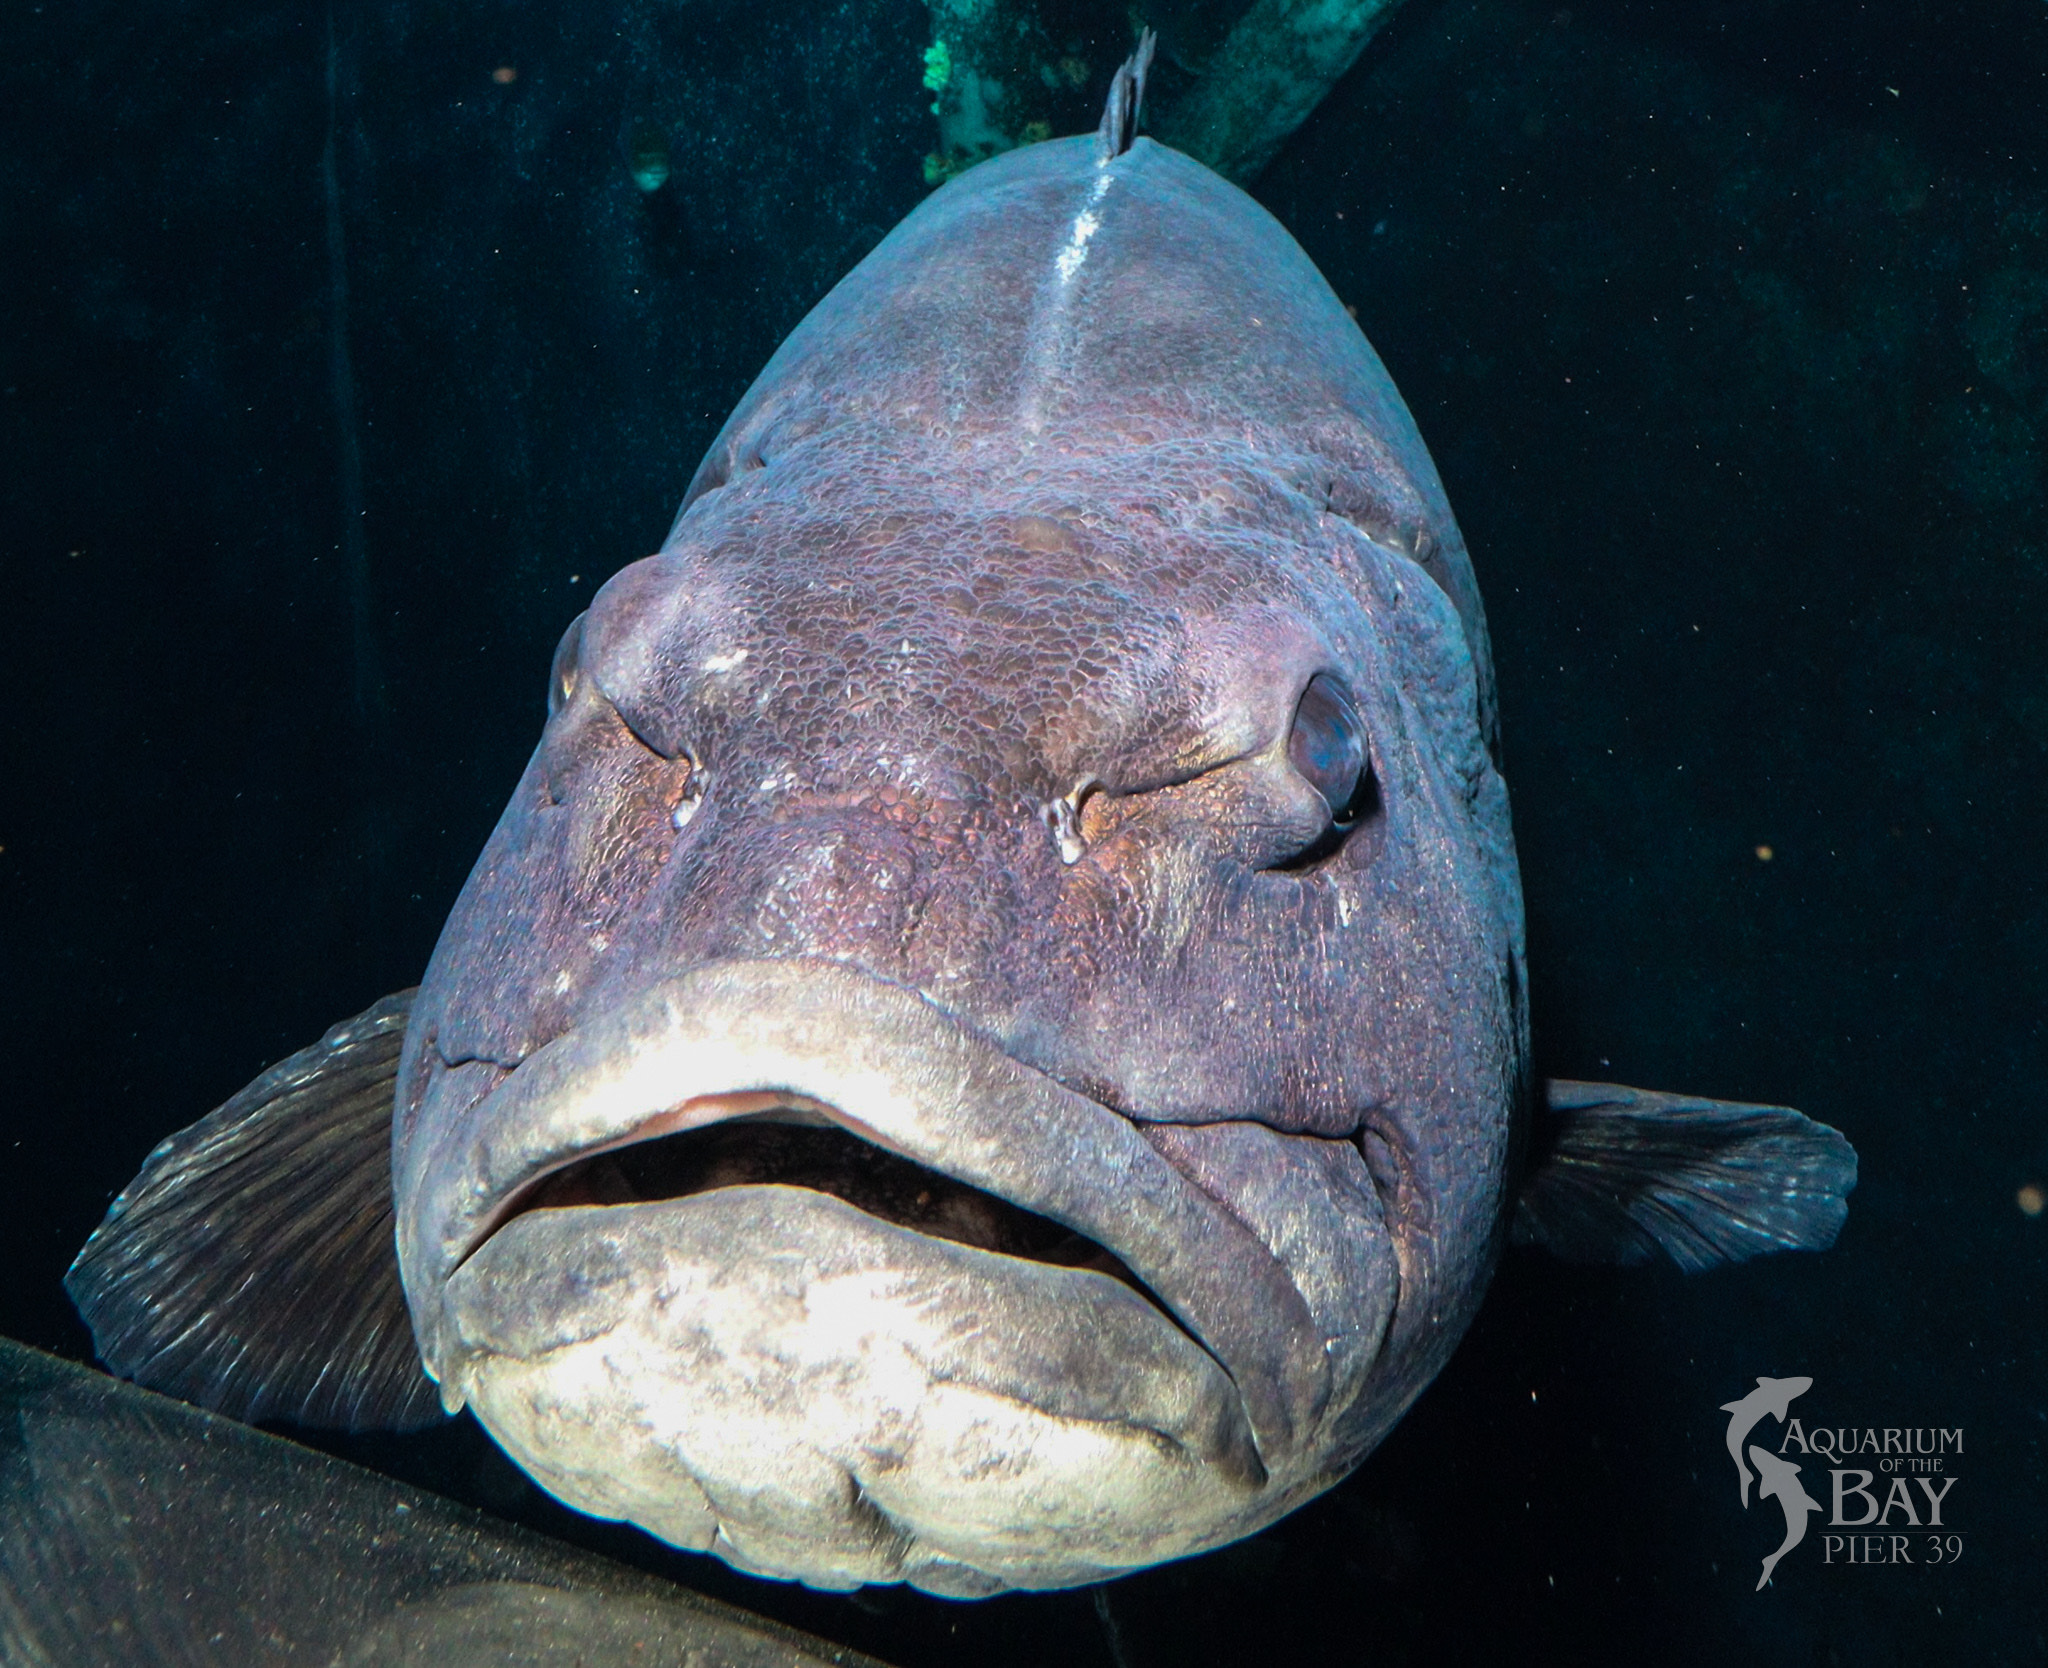Giant Bass: (165, 109, 1958, 1653)
